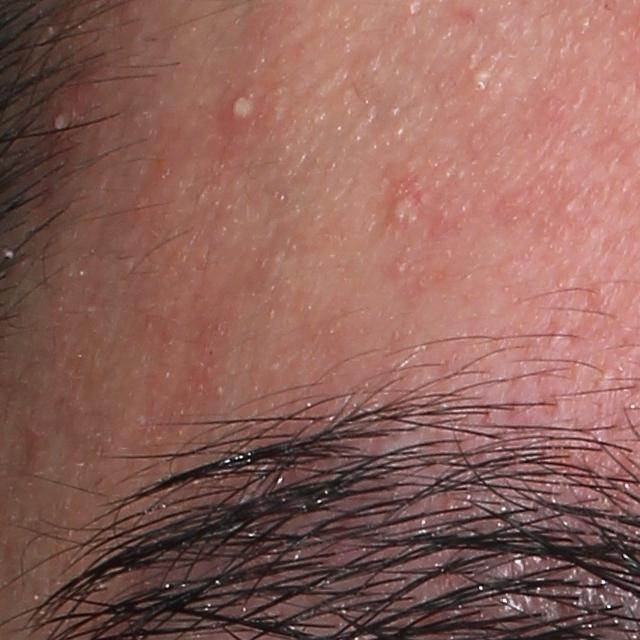pustule: (378, 186, 434, 236), (38, 99, 84, 152), (223, 78, 261, 127), (465, 60, 498, 96)
